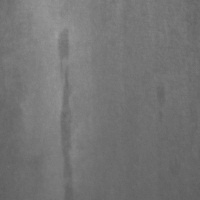inclusion: (54, 56, 81, 199), (53, 24, 76, 96), (151, 79, 172, 128)
